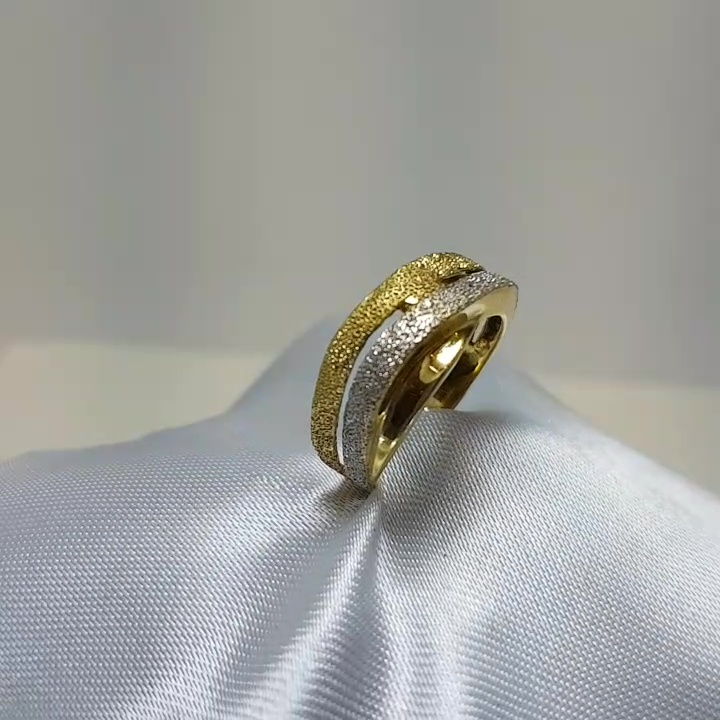Ring 5: (291, 243, 523, 521)
